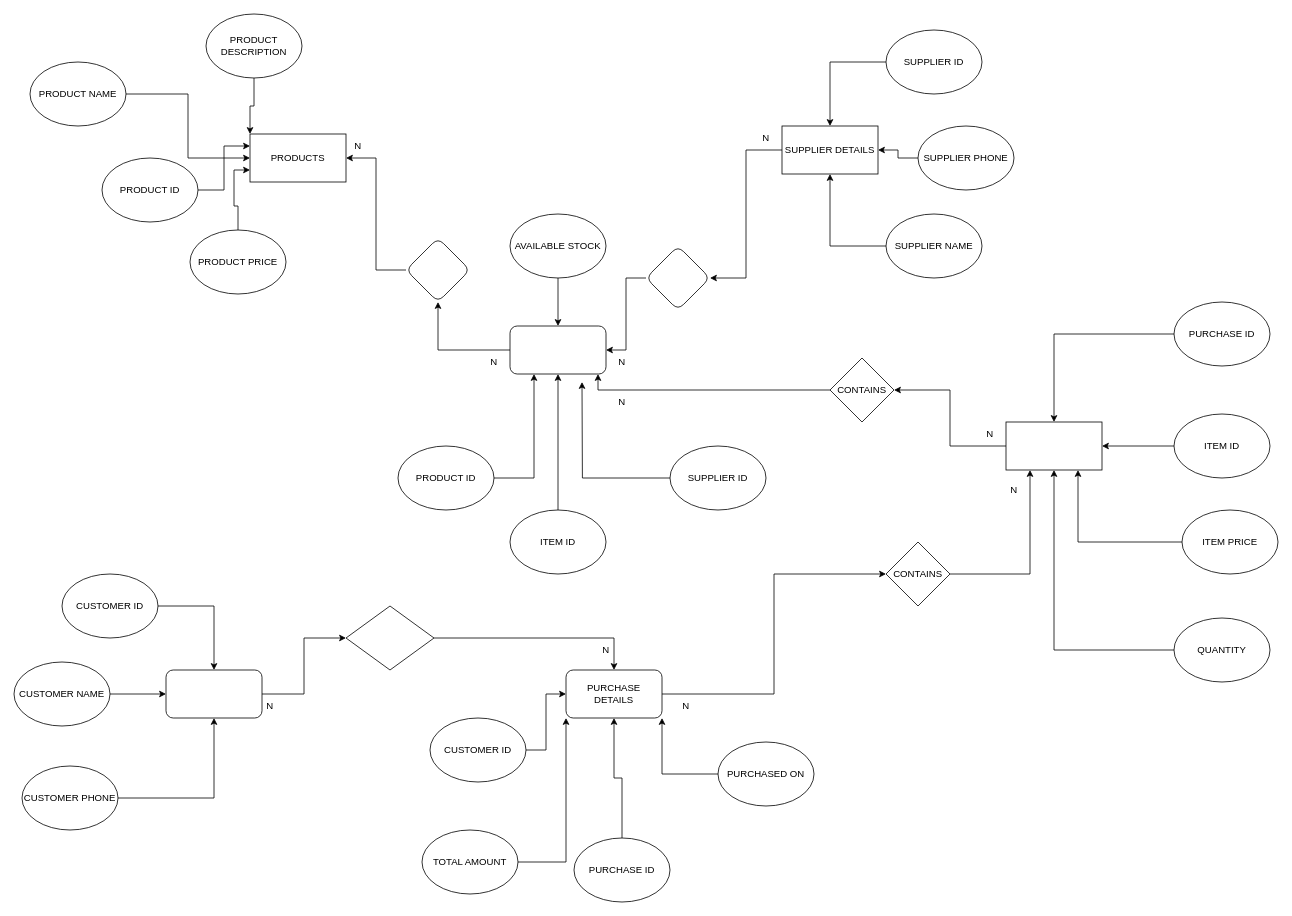
Some shapes in this 1292 by 916 pixel diagram are drawn without their labels. Here are the shapes that lost their labels. From the top down, the centre of each, then its label:
At pixel 437 269: "HAS".
At pixel 677 277: "SUPPLIES".
At pixel 557 349: "STOCK DETAILS".
At pixel 1053 445: "BILLED ITEMS".
At pixel 389 637: "PURCHASES".
At pixel 213 693: "CUSTOMER DETAILS".
